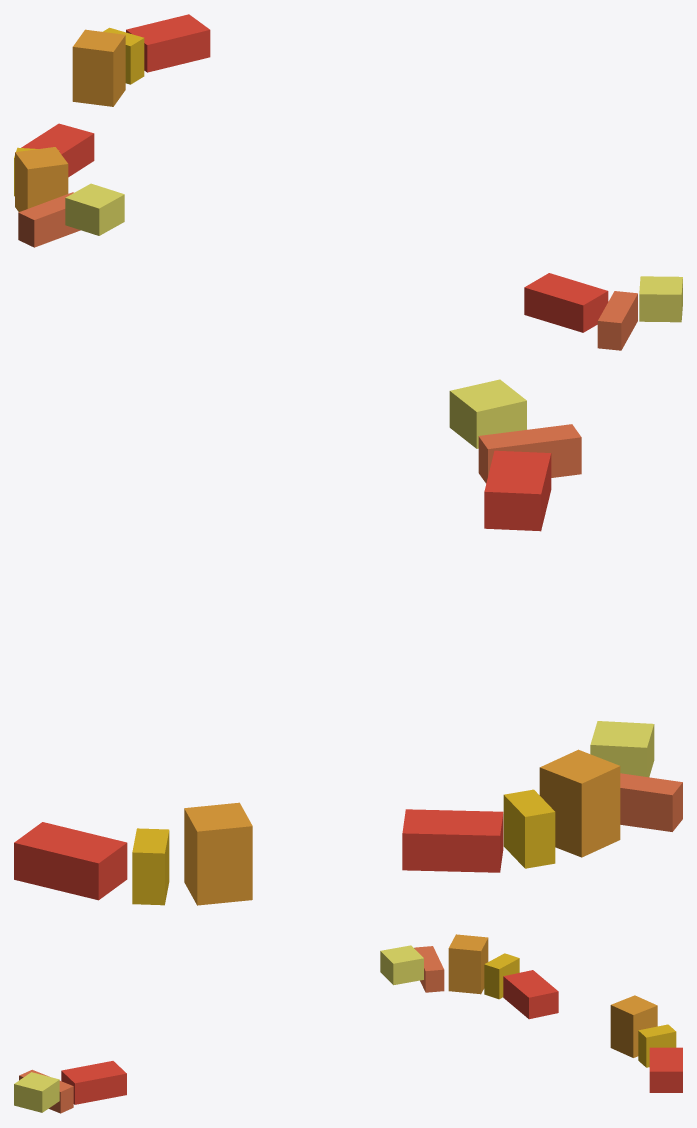
The model's file is Lvl05_Prototype.fbx.
The picture shows the model from 3 angles, top to bottom: view 1: azimuth 30°, elevation 25°; view 2: azimuth 150°, elevation 25°; view 3: azimuth 270°, elevation 25°; orthographic projection. The views are drawn at different scales.
Parts seen in each view (by area): view 1: HouseSET_lvl05; view 2: HouseSET_lvl05; view 3: HouseSET_lvl05.
Part boxes in pixels (left/top/right/bottom): HouseSET_lvl05: left=14, top=14, right=682, bottom=350; HouseSET_lvl05: left=14, top=379, right=682, bottom=905; HouseSET_lvl05: left=14, top=934, right=682, bottom=1113.
Size of the model in its own units: 7902 by 1000 by 14079.
